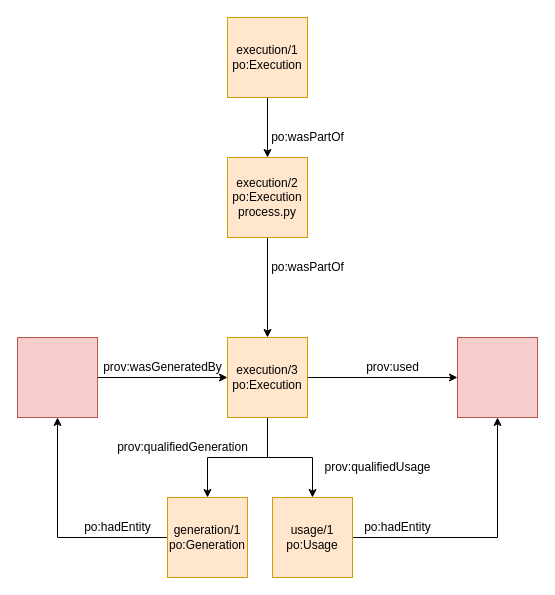
The diagram is 555 pixels wide and 595 high, and some of its shapes have lost their labels. Here are the shapes that lost their labels. From the top down, the centre of each, then its label:
At (57,377): "entity/2 po:Entity".
At (497,377): "entity/1 po:Entity".
